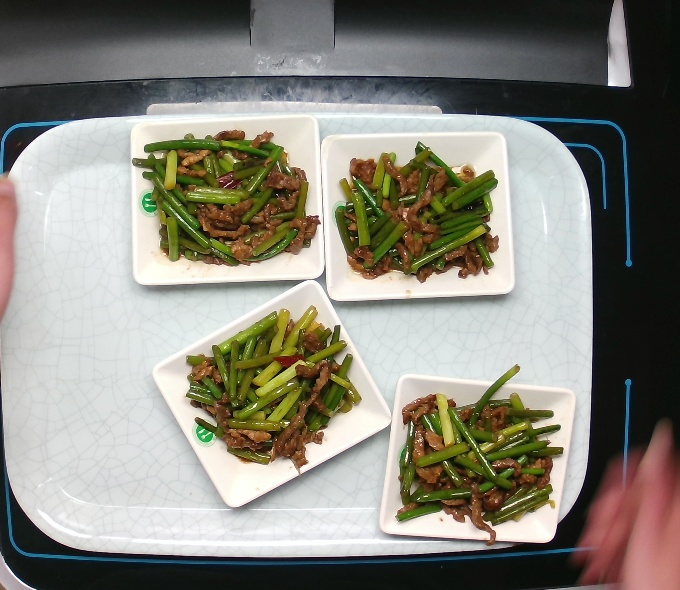wcq-SuanMiaoNiuRou: (381, 356, 565, 545), (171, 301, 360, 467), (329, 128, 518, 294), (132, 121, 322, 276)
